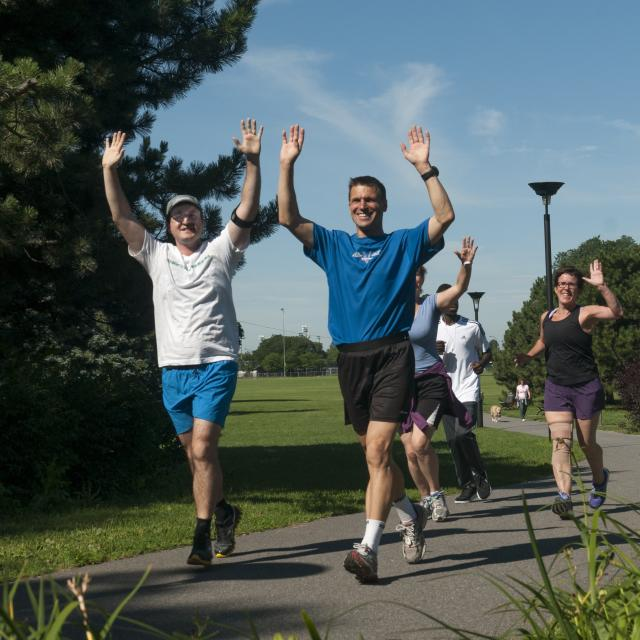body: (271, 118, 460, 587), (96, 112, 268, 570), (513, 255, 627, 523), (397, 234, 479, 524), (434, 282, 493, 504), (405, 529, 634, 577), (241, 533, 402, 561), (513, 376, 532, 422)
